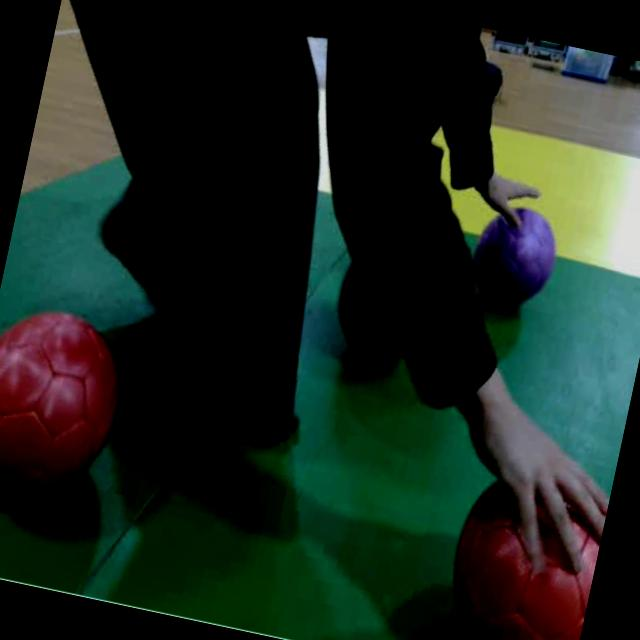purple_ball: (462, 200, 566, 322)
red_ball: (427, 448, 613, 640), (0, 295, 141, 524)
